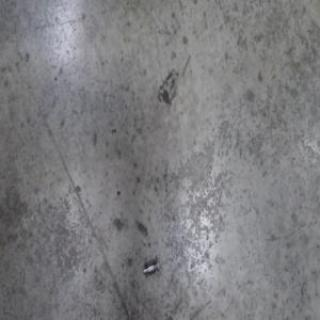Bolttrack_idkeyframe: (143, 256, 161, 278)
